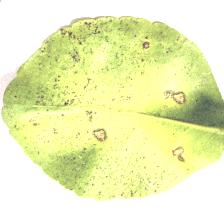canker: (57, 47, 189, 167)
